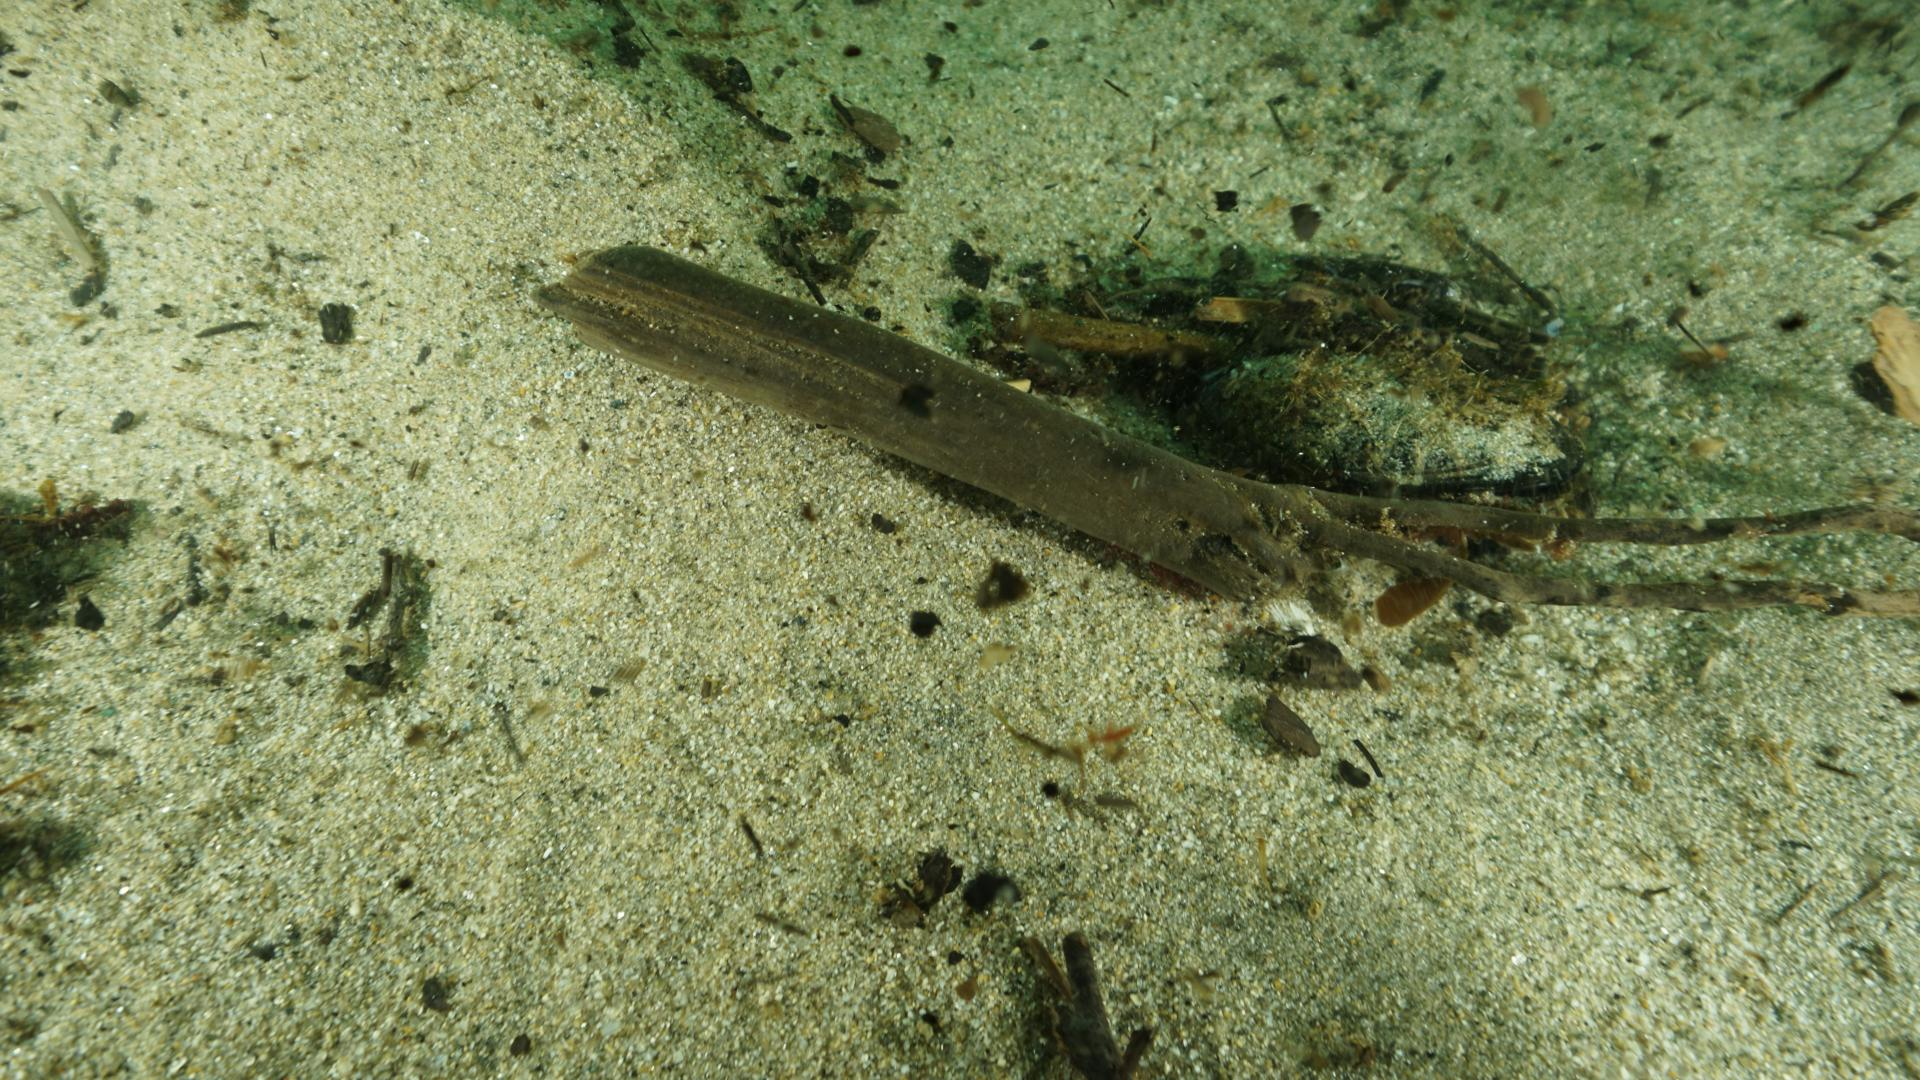wood: (527, 239, 1308, 601)
